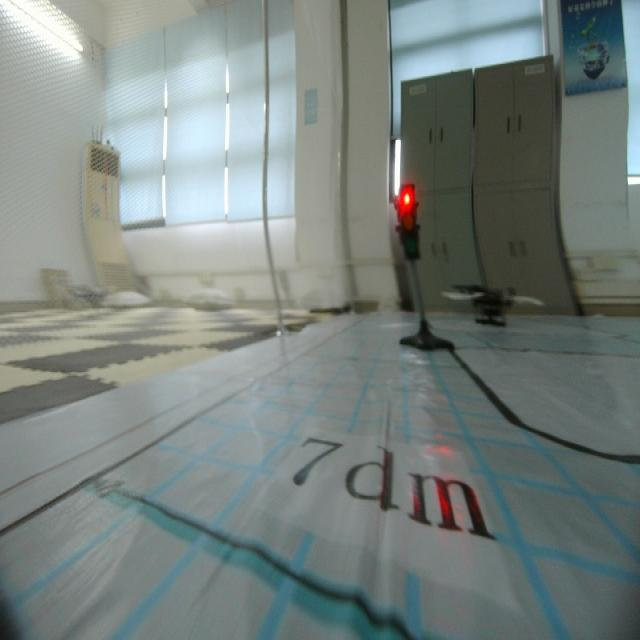red: (392, 182, 424, 260)
